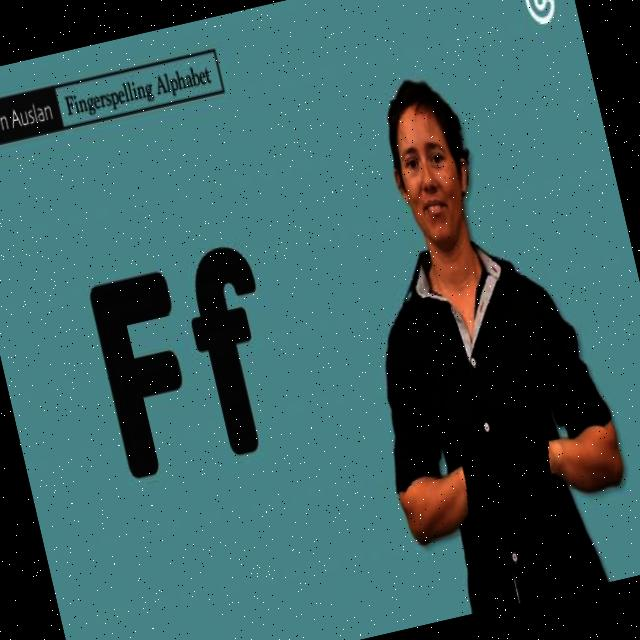F: (455, 419, 564, 532)
